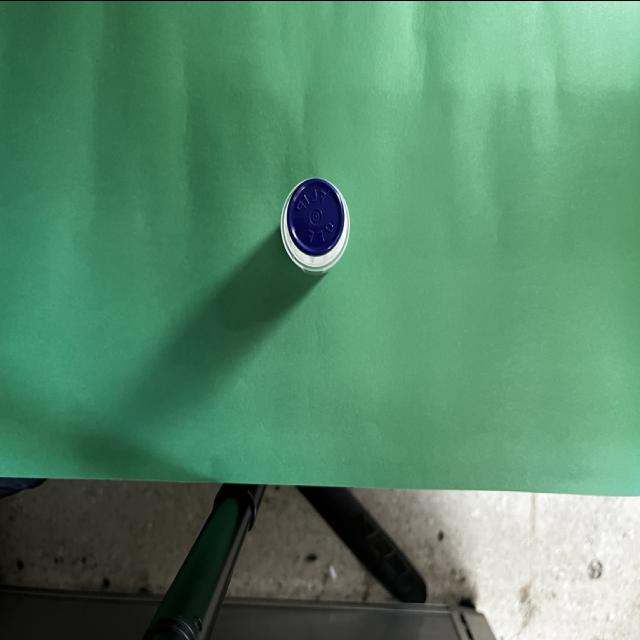Vials: (280, 176, 350, 274)
